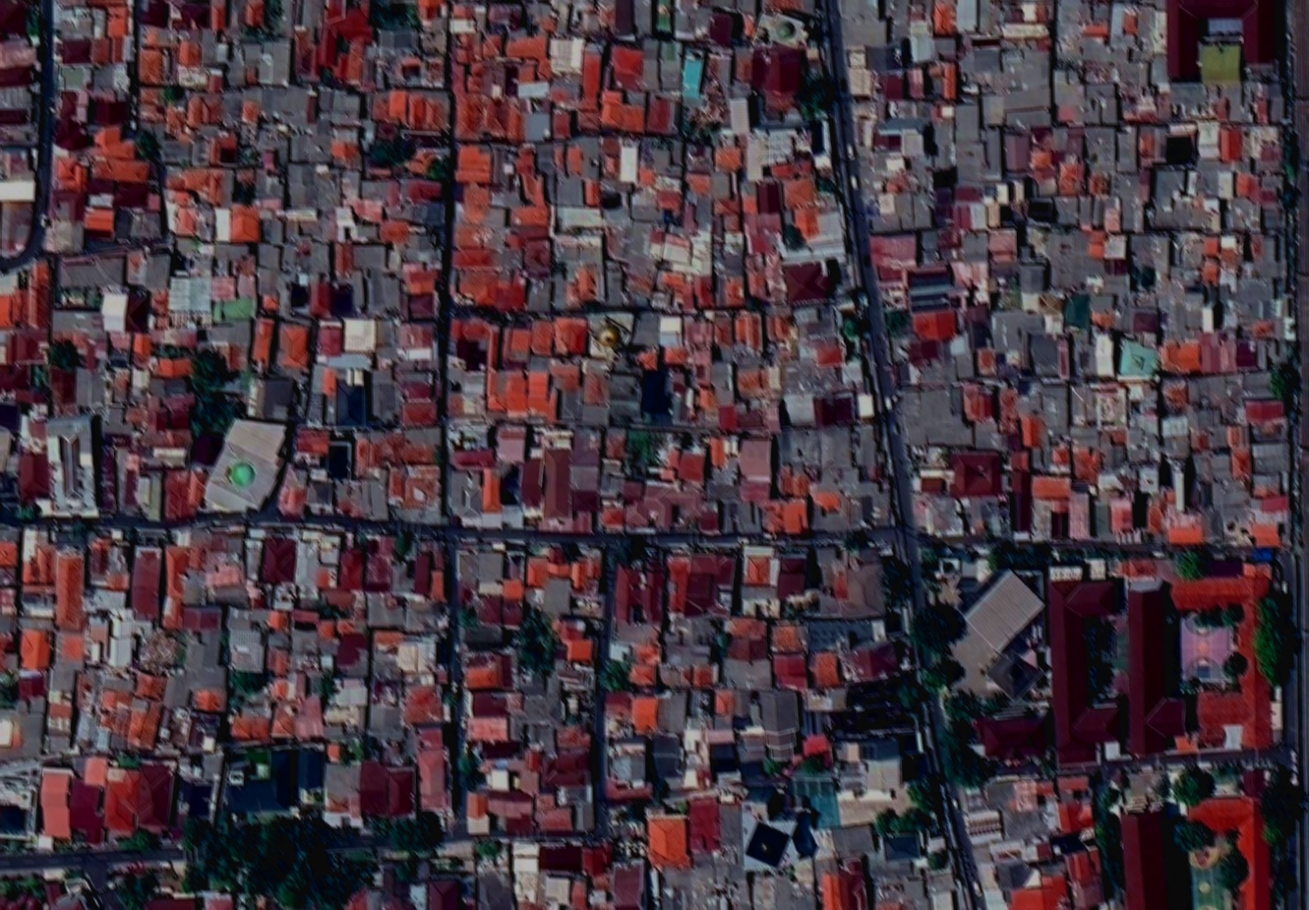building: (1169, 556, 1284, 750), (1046, 575, 1124, 763), (1183, 768, 1274, 910), (200, 406, 291, 530), (1126, 581, 1190, 755), (945, 549, 1047, 653), (1166, 0, 1277, 75), (733, 785, 810, 867), (45, 410, 99, 519), (823, 674, 919, 735), (1118, 799, 1170, 910), (223, 748, 295, 814), (801, 606, 907, 649), (902, 382, 969, 448), (613, 543, 666, 624), (99, 406, 140, 510), (978, 705, 1048, 765), (622, 479, 701, 532), (683, 542, 737, 619), (832, 545, 889, 617), (984, 638, 1048, 702), (836, 747, 932, 788), (128, 528, 164, 635), (609, 620, 664, 686), (838, 632, 915, 679), (173, 745, 223, 817), (835, 781, 917, 824), (165, 257, 214, 328), (812, 489, 895, 529), (290, 526, 341, 588), (36, 764, 74, 847), (779, 195, 847, 241), (101, 763, 140, 842), (136, 756, 177, 829), (990, 309, 1032, 380), (756, 689, 798, 759), (84, 525, 131, 586), (0, 765, 39, 838), (806, 543, 845, 614), (245, 373, 306, 418), (681, 715, 718, 789), (833, 728, 924, 758), (272, 312, 314, 376), (646, 806, 690, 867), (474, 843, 513, 910), (55, 248, 125, 285), (1158, 278, 1199, 341), (950, 448, 1006, 494), (750, 4, 808, 48), (65, 776, 103, 843), (322, 760, 361, 825), (1187, 373, 1242, 419), (812, 462, 884, 497), (954, 99, 985, 180), (54, 548, 86, 625), (660, 436, 710, 485), (14, 450, 50, 518), (399, 134, 452, 180), (782, 256, 835, 301), (1166, 484, 1206, 542), (401, 465, 441, 523), (1001, 801, 1060, 840), (1009, 873, 1071, 910), (413, 747, 450, 809), (714, 848, 751, 910), (363, 362, 399, 425), (903, 262, 952, 308), (305, 363, 340, 427), (924, 492, 969, 541), (112, 206, 165, 247), (744, 249, 785, 302), (541, 447, 572, 517), (772, 861, 816, 910), (50, 628, 84, 689), (1050, 229, 1087, 285), (1191, 155, 1240, 197), (40, 876, 99, 910), (608, 733, 648, 783), (998, 50, 1052, 87), (0, 199, 35, 256), (246, 312, 278, 374), (636, 366, 672, 421), (28, 256, 56, 326), (836, 853, 870, 910), (722, 616, 769, 657), (399, 318, 437, 368), (968, 492, 1009, 538), (1107, 555, 1179, 581), (145, 392, 195, 429), (318, 0, 346, 66), (588, 311, 634, 351), (126, 695, 160, 749), (604, 43, 643, 90), (625, 217, 664, 264), (780, 361, 837, 393), (908, 307, 960, 342), (596, 206, 631, 258), (551, 227, 602, 262), (776, 542, 809, 596), (17, 616, 51, 668), (274, 463, 308, 515), (1109, 488, 1141, 543), (449, 469, 481, 524), (617, 258, 656, 303), (743, 207, 782, 252), (86, 121, 136, 156), (792, 299, 838, 337), (1090, 380, 1127, 427), (817, 422, 854, 469), (22, 525, 53, 581), (53, 4, 107, 36), (162, 188, 198, 236), (226, 627, 265, 671), (359, 756, 388, 815), (763, 44, 801, 89), (18, 694, 46, 755), (782, 232, 847, 258), (464, 685, 522, 714), (1200, 42, 1242, 82), (364, 533, 394, 589), (1119, 330, 1157, 374), (688, 796, 720, 848), (606, 372, 642, 418), (958, 300, 994, 346), (657, 864, 693, 910), (1125, 414, 1160, 461), (871, 229, 918, 264), (873, 118, 926, 149), (742, 543, 781, 585), (952, 258, 990, 301), (1082, 118, 1116, 166), (90, 154, 150, 181), (707, 738, 742, 784), (720, 656, 770, 688), (226, 38, 260, 85), (548, 374, 582, 421), (185, 707, 223, 749), (1216, 81, 1254, 123), (1087, 488, 1116, 543), (614, 857, 645, 908), (541, 751, 590, 783), (974, 419, 1023, 451), (691, 852, 718, 910), (828, 821, 874, 855), (652, 732, 682, 784), (1068, 871, 1109, 909), (108, 605, 133, 667), (665, 547, 690, 609), (706, 453, 741, 497), (1055, 0, 1082, 57), (500, 461, 524, 525), (0, 102, 38, 142), (259, 36, 290, 85), (908, 356, 957, 387), (994, 856, 1040, 889), (735, 730, 768, 776), (1014, 776, 1058, 810), (667, 612, 720, 640), (182, 627, 219, 667), (401, 425, 441, 462), (326, 428, 355, 479), (1063, 845, 1104, 881), (580, 39, 604, 100), (262, 538, 296, 581), (1020, 285, 1067, 316), (387, 764, 415, 816), (350, 243, 402, 271), (144, 237, 173, 287), (681, 45, 706, 103), (534, 790, 572, 828), (365, 589, 404, 626), (139, 44, 176, 83), (1004, 84, 1052, 114), (713, 127, 749, 167), (772, 649, 808, 689), (877, 828, 922, 860), (161, 541, 188, 594), (134, 467, 161, 520), (1167, 117, 1198, 163), (648, 89, 679, 135), (866, 849, 912, 880), (228, 707, 271, 740), (653, 688, 686, 731), (1237, 316, 1296, 340), (191, 428, 226, 468), (269, 695, 300, 740), (220, 0, 251, 45), (730, 683, 761, 728), (335, 634, 369, 675), (455, 270, 496, 304), (271, 583, 319, 612), (83, 610, 109, 663), (40, 218, 83, 250), (113, 179, 162, 207), (397, 368, 441, 399), (604, 688, 633, 735), (478, 467, 501, 526), (808, 645, 841, 686), (306, 468, 336, 513), (291, 26, 318, 76), (205, 318, 251, 347), (1235, 337, 1278, 368), (739, 584, 782, 615), (965, 808, 1003, 843), (18, 581, 56, 616), (1171, 80, 1210, 114), (809, 114, 835, 165), (722, 498, 761, 532), (210, 295, 259, 322), (457, 141, 490, 181), (1254, 126, 1284, 170), (1000, 126, 1030, 170), (1221, 504, 1253, 545), (983, 175, 1024, 207), (286, 160, 315, 205), (554, 633, 599, 662), (322, 704, 364, 735), (852, 423, 883, 465), (1079, 33, 1129, 59), (386, 201, 445, 223), (297, 740, 324, 788), (635, 133, 659, 187), (549, 34, 584, 71), (658, 230, 695, 265), (0, 145, 38, 179), (453, 181, 487, 219), (405, 597, 448, 627), (1017, 247, 1047, 290), (48, 364, 76, 410), (314, 160, 342, 206), (360, 44, 388, 90), (447, 419, 493, 447), (1057, 797, 1096, 830), (404, 225, 444, 257), (88, 92, 132, 121), (460, 624, 504, 653), (537, 842, 581, 871), (846, 46, 872, 95), (470, 737, 523, 761), (740, 433, 771, 474), (336, 377, 363, 424), (14, 326, 50, 361), (485, 174, 522, 208), (161, 470, 187, 518), (176, 63, 224, 89), (365, 465, 389, 517), (995, 382, 1021, 430), (523, 371, 550, 417), (290, 610, 318, 654), (345, 0, 375, 41), (921, 862, 962, 892), (840, 18, 889, 43), (600, 456, 625, 505), (1051, 69, 1084, 106), (810, 331, 847, 364), (293, 693, 322, 735), (570, 555, 599, 597), (495, 421, 527, 459), (456, 91, 483, 136), (1252, 440, 1291, 471), (92, 61, 135, 89), (712, 169, 740, 212), (746, 867, 774, 910), (1069, 490, 1093, 540), (74, 365, 104, 405), (418, 630, 448, 670), (331, 125, 361, 165), (672, 372, 697, 420), (718, 794, 742, 844), (365, 275, 398, 311), (444, 367, 488, 394), (213, 242, 250, 274), (46, 188, 84, 219), (230, 202, 261, 240), (448, 336, 486, 367), (205, 164, 233, 206), (505, 368, 529, 417), (817, 858, 840, 909), (1042, 379, 1068, 424), (163, 164, 208, 190), (456, 547, 478, 600), (505, 29, 548, 56), (523, 458, 543, 516), (1126, 379, 1159, 414), (103, 1, 136, 36), (485, 316, 506, 371), (630, 309, 662, 345), (1236, 274, 1286, 297), (525, 235, 556, 272), (1120, 46, 1151, 83), (664, 642, 716, 664), (0, 34, 38, 64), (84, 203, 114, 241), (537, 512, 594, 532), (1238, 295, 1295, 315), (1104, 231, 1131, 273), (983, 122, 1004, 176), (1142, 485, 1165, 534), (397, 126, 446, 149), (506, 757, 539, 791), (836, 356, 869, 390), (50, 154, 85, 186), (239, 85, 259, 141), (400, 262, 440, 290), (782, 390, 814, 425), (91, 36, 134, 62), (1030, 334, 1056, 377), (713, 271, 744, 307), (780, 494, 811, 530), (1193, 446, 1230, 476), (1224, 198, 1261, 228), (621, 89, 648, 130), (186, 468, 210, 514), (307, 85, 331, 131), (807, 791, 836, 829), (1096, 462, 1138, 488), (101, 289, 127, 331), (282, 85, 308, 127), (378, 24, 417, 52), (496, 270, 524, 309), (55, 87, 89, 119), (343, 317, 375, 351), (801, 734, 833, 768), (330, 87, 361, 122), (1250, 470, 1290, 497), (131, 669, 167, 699), (230, 254, 257, 294), (488, 789, 533, 813), (523, 694, 559, 724), (1073, 328, 1097, 373), (339, 544, 364, 587), (383, 54, 420, 83), (732, 308, 761, 345), (932, 115, 953, 166), (639, 37, 660, 88), (398, 290, 439, 316), (0, 705, 19, 761), (328, 675, 366, 703), (954, 201, 992, 229), (747, 127, 767, 180), (125, 286, 148, 332), (152, 324, 196, 348), (870, 190, 914, 214), (769, 154, 813, 178), (53, 119, 87, 150), (1072, 444, 1099, 483), (597, 89, 624, 128), (781, 176, 816, 206), (803, 685, 845, 710), (914, 464, 950, 493), (885, 0, 914, 36), (763, 302, 792, 338), (715, 232, 741, 272), (335, 479, 363, 516), (928, 59, 956, 96), (492, 646, 516, 689), (1095, 326, 1116, 375), (1064, 292, 1091, 330), (171, 0, 209, 27), (449, 310, 487, 337), (760, 86, 798, 113), (655, 136, 682, 174), (428, 877, 460, 909), (775, 462, 807, 494), (160, 674, 191, 707), (394, 878, 427, 909), (562, 661, 596, 691), (581, 841, 611, 875), (1150, 0, 1170, 51), (707, 9, 737, 43), (280, 235, 309, 270), (1249, 415, 1288, 441), (1071, 384, 1097, 423), (631, 692, 657, 731), (543, 576, 571, 612), (507, 322, 531, 364), (468, 715, 508, 740), (960, 47, 1000, 72), (1020, 412, 1047, 449), (295, 426, 332, 453), (554, 721, 591, 748), (486, 1, 523, 28), (768, 126, 795, 163), (873, 69, 905, 100), (660, 40, 682, 85), (730, 84, 752, 129), (181, 605, 224, 628), (791, 427, 817, 465), (1005, 105, 1052, 126), (315, 318, 344, 352), (770, 619, 804, 648), (1241, 369, 1276, 397), (200, 27, 228, 62), (1116, 120, 1136, 169), (865, 214, 914, 234), (587, 873, 614, 909), (578, 264, 605, 300), (219, 88, 241, 132), (509, 204, 555, 225), (602, 262, 625, 304), (1100, 428, 1126, 465), (544, 873, 570, 910), (573, 425, 599, 462), (671, 0, 697, 37), (1152, 165, 1183, 196), (86, 586, 126, 610), (1219, 118, 1243, 158), (710, 359, 734, 399), (17, 668, 51, 696), (1120, 197, 1148, 231), (1212, 478, 1250, 503), (423, 91, 448, 129), (1239, 256, 1289, 275), (0, 82, 43, 104), (376, 318, 398, 361), (445, 392, 488, 414), (165, 89, 186, 134), (450, 446, 495, 467), (987, 227, 1014, 262), (555, 206, 602, 226), (212, 345, 248, 371), (910, 190, 936, 226), (735, 46, 761, 82), (210, 131, 238, 164), (962, 228, 990, 261), (691, 229, 712, 273), (900, 877, 928, 910), (1031, 474, 1071, 497), (76, 709, 99, 749), (226, 604, 266, 627), (400, 400, 440, 423), (974, 380, 997, 420), (142, 428, 193, 446), (736, 395, 763, 429), (53, 38, 91, 62), (403, 703, 451, 722), (451, 246, 499, 265), (1242, 398, 1285, 419), (185, 665, 226, 687), (1050, 194, 1080, 224), (787, 772, 832, 792), (556, 175, 585, 206), (530, 315, 553, 354), (1197, 118, 1220, 157), (581, 371, 609, 403), (869, 879, 901, 907), (475, 545, 502, 578), (938, 225, 965, 258), (548, 71, 581, 98), (756, 177, 783, 210), (734, 361, 761, 394), (575, 97, 601, 131), (998, 35, 1053, 51), (1186, 400, 1221, 425), (1220, 232, 1245, 267), (870, 147, 905, 172), (188, 686, 226, 709), (177, 25, 200, 63), (705, 711, 734, 741), (1169, 458, 1186, 509), (107, 330, 131, 366), (907, 336, 939, 363), (1029, 149, 1056, 181), (571, 0, 598, 32), (685, 312, 712, 344), (346, 40, 366, 83), (507, 223, 550, 243), (606, 781, 651, 800), (1016, 379, 1041, 413), (812, 390, 837, 424), (1199, 330, 1219, 372), (0, 361, 30, 389), (140, 85, 164, 120), (525, 721, 555, 749), (550, 355, 580, 383), (1262, 229, 1290, 259), (507, 97, 527, 139), (684, 140, 712, 170), (699, 496, 723, 531), (1031, 497, 1050, 541), (412, 724, 450, 746), (1012, 490, 1029, 539), (521, 171, 547, 203), (1214, 300, 1240, 332), (903, 62, 929, 94), (864, 42, 896, 68), (555, 748, 591, 771), (1130, 232, 1155, 265), (1090, 292, 1115, 325), (973, 344, 998, 377), (1250, 493, 1291, 513), (0, 522, 20, 563), (919, 223, 939, 264), (153, 354, 192, 375), (909, 2, 931, 39), (486, 96, 508, 133), (987, 779, 1015, 808), (932, 35, 960, 64), (85, 178, 115, 205), (475, 593, 502, 623), (620, 134, 638, 179), (138, 0, 169, 26), (329, 277, 352, 312), (333, 206, 356, 241), (0, 1, 25, 33), (1133, 0, 1153, 40), (989, 838, 1027, 859), (486, 205, 507, 243), (600, 134, 619, 176), (775, 340, 813, 361), (142, 894, 195, 909), (111, 688, 129, 732), (159, 594, 183, 627), (57, 64, 90, 88), (525, 276, 549, 309), (419, 0, 447, 28), (1085, 165, 1112, 194), (1162, 377, 1185, 411), (692, 272, 715, 306), (149, 447, 188, 467), (254, 167, 284, 193), (569, 312, 589, 351), (1205, 195, 1225, 234), (840, 0, 879, 20), (258, 267, 277, 308), (405, 88, 424, 129), (580, 136, 599, 177), (82, 753, 107, 784), (369, 704, 400, 729), (258, 85, 283, 116), (659, 311, 684, 342), (487, 370, 505, 413), (308, 277, 330, 312), (1170, 190, 1192, 225), (1148, 54, 1170, 89), (975, 859, 999, 891), (1150, 194, 1174, 226), (1059, 159, 1083, 191), (741, 475, 773, 499), (398, 632, 418, 670), (931, 187, 951, 225), (391, 558, 414, 591), (0, 630, 18, 672), (413, 551, 431, 593), (140, 24, 176, 45), (1111, 168, 1139, 195), (523, 109, 550, 137), (528, 0, 556, 27), (183, 573, 208, 603), (0, 584, 17, 628), (490, 140, 507, 184), (761, 394, 783, 428), (464, 662, 495, 686), (405, 684, 444, 703), (385, 465, 404, 504), (614, 0, 633, 39), (932, 890, 971, 909), (712, 309, 732, 346), (186, 538, 209, 570), (502, 546, 525, 578), (540, 423, 572, 446), (907, 151, 928, 186), (1120, 100, 1155, 121), (1026, 197, 1053, 224), (454, 221, 482, 247), (927, 164, 955, 190), (851, 118, 877, 146), (905, 35, 933, 61), (597, 506, 623, 534), (1051, 831, 1084, 853), (525, 553, 547, 586), (1259, 172, 1284, 201), (492, 64, 517, 93), (207, 583, 245, 602), (554, 784, 592, 803), (1185, 289, 1205, 325), (149, 376, 189, 394), (109, 365, 129, 401), (381, 429, 401, 465), (1259, 205, 1289, 229), (0, 63, 34, 84), (517, 77, 551, 98), (309, 242, 332, 273), (556, 616, 587, 639), (569, 487, 600, 510), (604, 426, 627, 457), (659, 664, 690, 687), (130, 365, 148, 404), (962, 70, 1001, 88), (1252, 520, 1280, 545), (0, 178, 35, 198), (306, 132, 331, 160), (97, 686, 114, 727), (1161, 433, 1190, 457), (0, 397, 21, 430), (934, 1, 955, 34), (692, 5, 713, 38), (1177, 339, 1200, 369), (1236, 169, 1259, 199), (132, 329, 151, 365), (1183, 232, 1202, 268), (548, 543, 570, 574), (515, 141, 537, 172), (100, 669, 134, 689), (245, 581, 271, 607), (420, 30, 446, 56), (297, 0, 323, 26), (690, 662, 717, 687), (321, 587, 353, 608), (430, 567, 451, 599), (461, 860, 475, 908), (888, 100, 930, 116), (833, 389, 854, 421), (161, 139, 190, 162), (254, 195, 283, 218), (565, 691, 594, 714), (653, 186, 682, 209), (290, 275, 308, 312), (796, 116, 814, 153), (12, 384, 47, 403), (409, 179, 444, 198), (1253, 507, 1292, 524), (552, 313, 569, 352), (1231, 445, 1251, 478), (0, 894, 44, 909), (202, 90, 222, 123), (1153, 262, 1169, 303), (952, 351, 976, 378), (635, 0, 653, 36), (773, 428, 791, 464), (1202, 505, 1221, 539), (126, 247, 145, 281), (389, 87, 406, 125), (683, 172, 711, 195), (852, 389, 875, 417), (1269, 81, 1285, 121), (1065, 123, 1085, 155), (955, 0, 975, 32), (515, 872, 537, 901), (580, 402, 609, 424), (355, 428, 368, 477), (1057, 331, 1071, 376), (983, 93, 1004, 123), (979, 1, 1000, 31), (11, 286, 28, 323), (123, 402, 148, 427), (138, 118, 163, 143), (344, 884, 368, 910), (571, 802, 594, 829), (572, 464, 599, 487), (801, 709, 828, 732), (1171, 265, 1202, 285), (1138, 462, 1160, 490), (380, 220, 408, 242), (356, 199, 384, 221), (1046, 561, 1082, 578), (370, 86, 388, 120), (734, 10, 755, 39), (689, 685, 710, 714), (1137, 123, 1153, 161), (1049, 121, 1068, 153), (405, 670, 448, 684), (340, 166, 360, 196), (502, 596, 522, 626), (951, 177, 981, 197), (535, 140, 555, 170), (1132, 307, 1158, 330), (265, 647, 288, 673), (210, 275, 236, 298), (364, 151, 390, 174), (254, 243, 280, 266), (877, 264, 903, 287), (928, 99, 954, 122), (1135, 163, 1152, 198), (1161, 413, 1188, 435), (200, 891, 233, 909), (1021, 840, 1052, 859), (243, 548, 262, 579), (1038, 854, 1066, 875), (359, 177, 387, 198), (988, 256, 1016, 277), (367, 870, 382, 909), (1057, 774, 1091, 791), (1110, 2, 1127, 36), (630, 203, 664, 220), (1155, 230, 1171, 266), (1102, 196, 1120, 228), (1002, 23, 1050, 35), (740, 178, 758, 210), (1103, 269, 1128, 292), (466, 788, 485, 818), (570, 879, 589, 909), (1127, 289, 1157, 308), (196, 205, 213, 238), (361, 116, 378, 149), (586, 544, 603, 577), (1069, 424, 1097, 444), (317, 205, 333, 240), (653, 267, 684, 285), (1227, 421, 1250, 445), (375, 723, 404, 742), (520, 670, 545, 692), (649, 281, 671, 306), (1173, 730, 1199, 751), (982, 888, 1008, 909), (551, 109, 572, 135), (1220, 338, 1236, 372), (291, 450, 325, 466), (334, 241, 351, 273), (1115, 291, 1130, 327), (1152, 123, 1167, 159), (382, 860, 393, 909), (1197, 725, 1225, 744), (366, 428, 380, 466), (718, 46, 732, 84), (761, 362, 780, 390), (170, 811, 186, 844), (214, 207, 230, 240), (860, 168, 882, 192), (710, 431, 726, 464), (554, 1, 571, 32), (1160, 340, 1178, 369), (1052, 511, 1070, 540), (424, 60, 444, 86), (382, 742, 408, 762), (881, 171, 907, 191), (372, 120, 399, 139), (1199, 254, 1218, 281), (1220, 266, 1236, 298), (1091, 193, 1107, 225), (1085, 256, 1102, 286), (1080, 20, 1110, 37), (260, 219, 283, 241), (563, 278, 581, 306), (696, 191, 710, 227), (288, 133, 307, 159), (717, 402, 736, 428), (714, 686, 733, 712), (453, 29, 482, 46), (287, 671, 305, 698), (1155, 92, 1173, 119), (705, 51, 723, 78), (1030, 127, 1052, 149), (1009, 446, 1030, 469), (518, 57, 539, 80), (964, 380, 977, 417), (1248, 229, 1264, 259), (1056, 103, 1080, 123), (482, 32, 502, 56), (447, 16, 477, 32), (628, 189, 658, 205), (511, 840, 539, 857), (1169, 230, 1183, 264), (1088, 230, 1106, 256), (1083, 82, 1114, 97), (337, 617, 366, 633), (971, 32, 1000, 48), (0, 326, 14, 359), (501, 577, 523, 598), (771, 0, 813, 11), (267, 608, 290, 628), (352, 268, 364, 306), (187, 90, 200, 125), (502, 814, 532, 829), (653, 173, 683, 188), (210, 1, 226, 29), (331, 49, 347, 77), (1189, 196, 1203, 228), (316, 634, 338, 654), (965, 784, 984, 807), (1208, 423, 1227, 446), (696, 385, 715, 408), (1124, 4, 1139, 33), (519, 96, 550, 110), (553, 140, 567, 171), (1083, 556, 1107, 574), (190, 138, 208, 162), (1081, 99, 1099, 123), (583, 354, 610, 370), (567, 138, 580, 171), (285, 205, 315, 219), (1011, 469, 1030, 491), (528, 351, 550, 370), (1021, 2, 1040, 24), (1254, 96, 1270, 122), (1240, 123, 1253, 155), (514, 855, 537, 873), (636, 350, 659, 368), (355, 222, 379, 239), (688, 344, 712, 361), (1198, 479, 1212, 508), (372, 630, 401, 644), (1246, 59, 1275, 73), (451, 61, 465, 90), (681, 280, 695, 309), (246, 0, 262, 25), (1100, 98, 1116, 123), (1003, 2, 1022, 23), (1224, 724, 1242, 746), (552, 275, 564, 308), (477, 577, 500, 594), (603, 178, 633, 191), (266, 630, 290, 646), (1102, 740, 1121, 760), (1092, 0, 1111, 20), (1190, 425, 1208, 446), (277, 267, 295, 288), (467, 814, 488, 832), (1036, 2, 1054, 23), (664, 343, 685, 361), (0, 291, 11, 325), (432, 538, 445, 566), (1079, 195, 1092, 223), (971, 844, 991, 862), (450, 46, 474, 61), (584, 179, 599, 203), (694, 361, 712, 381), (1052, 440, 1069, 461), (1042, 313, 1063, 330), (600, 188, 621, 205), (0, 270, 16, 292), (490, 768, 508, 787), (684, 195, 694, 229), (480, 71, 494, 95), (599, 1, 613, 25), (451, 0, 473, 15), (502, 250, 520, 268), (724, 212, 741, 231), (509, 714, 523, 737), (1204, 231, 1218, 254), (200, 121, 220, 137), (873, 100, 889, 120), (1080, 1, 1095, 22), (474, 3, 486, 29), (947, 335, 965, 352), (525, 750, 540, 770), (178, 126, 199, 140), (0, 566, 17, 583), (1202, 305, 1214, 329), (387, 177, 399, 201), (989, 202, 1002, 224), (299, 219, 318, 234), (277, 290, 289, 313), (274, 676, 287, 697), (318, 617, 334, 634), (1041, 445, 1051, 472), (1051, 497, 1070, 511), (235, 167, 254, 181), (109, 733, 126, 748), (96, 729, 109, 748), (467, 74, 482, 90), (470, 56, 486, 71), (284, 219, 297, 237), (400, 176, 410, 199), (387, 162, 406, 174), (263, 148, 275, 167), (710, 215, 724, 231), (326, 741, 339, 758), (546, 674, 559, 691), (1048, 461, 1070, 471), (1048, 423, 1068, 434), (711, 0, 735, 9), (1033, 444, 1042, 466), (417, 538, 431, 552), (1016, 379, 1029, 393), (1256, 83, 1268, 96), (736, 1, 755, 8), (553, 660, 564, 672), (1050, 434, 1060, 445)
tree: (926, 713, 997, 796), (1248, 764, 1309, 848), (900, 590, 971, 661), (298, 857, 365, 910), (1254, 592, 1292, 685), (385, 806, 449, 861), (1164, 757, 1221, 814), (240, 843, 295, 899), (183, 344, 234, 396), (191, 388, 246, 434), (1209, 845, 1258, 894), (915, 652, 965, 700), (367, 125, 419, 171), (255, 812, 301, 862), (291, 815, 359, 848), (221, 817, 265, 867), (1169, 815, 1219, 858), (283, 844, 326, 893), (194, 828, 250, 864), (986, 540, 1054, 568), (173, 810, 215, 854), (905, 777, 947, 819), (114, 872, 158, 909), (208, 856, 248, 896), (796, 76, 834, 118), (893, 675, 931, 716), (883, 557, 913, 606), (941, 687, 982, 722), (452, 748, 486, 790), (1217, 647, 1253, 683), (0, 874, 45, 902), (126, 824, 165, 856), (1101, 845, 1128, 891), (1267, 867, 1302, 901), (1269, 363, 1302, 399), (798, 747, 833, 780), (899, 804, 937, 834), (982, 687, 1016, 720), (1089, 656, 1113, 702), (345, 859, 383, 888), (518, 637, 551, 670), (130, 127, 162, 161), (872, 806, 906, 838), (1283, 125, 1302, 181), (520, 609, 553, 641), (601, 657, 631, 691), (375, 0, 417, 24), (1085, 622, 1109, 663), (196, 850, 231, 878), (1177, 549, 1209, 579), (920, 544, 943, 585), (353, 731, 383, 762), (274, 883, 310, 908), (312, 671, 342, 701), (232, 180, 262, 210), (424, 155, 456, 183), (1096, 812, 1120, 849), (48, 340, 79, 368), (180, 864, 210, 892), (438, 680, 468, 708), (232, 671, 266, 695), (617, 531, 643, 560), (843, 528, 877, 550), (474, 836, 505, 860), (0, 835, 34, 856), (1196, 606, 1225, 630), (884, 307, 914, 330), (15, 499, 41, 525), (1082, 546, 1138, 558), (25, 3, 45, 36), (337, 745, 362, 770), (454, 602, 478, 628), (784, 223, 807, 250), (1221, 603, 1245, 628), (624, 799, 647, 824), (70, 520, 93, 544), (394, 858, 420, 879), (240, 24, 270, 42), (226, 686, 249, 709), (561, 540, 583, 564), (764, 757, 791, 776), (0, 681, 19, 707), (265, 0, 286, 23), (843, 316, 863, 340), (927, 850, 951, 870), (163, 83, 186, 103), (816, 174, 839, 194), (653, 780, 670, 807), (371, 815, 393, 835), (694, 126, 716, 146), (115, 752, 141, 768), (1103, 785, 1119, 811), (1042, 752, 1059, 775), (681, 118, 699, 136), (308, 786, 324, 806), (1057, 547, 1074, 562), (706, 120, 719, 131)
